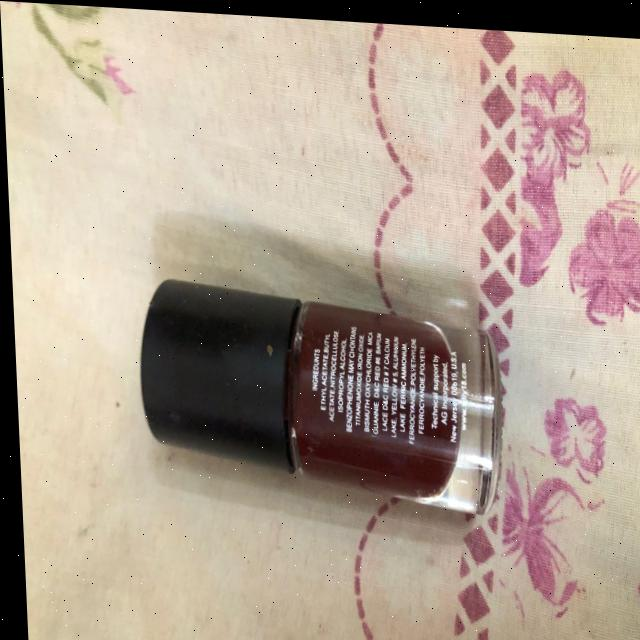nail polish: (116, 252, 508, 514)
